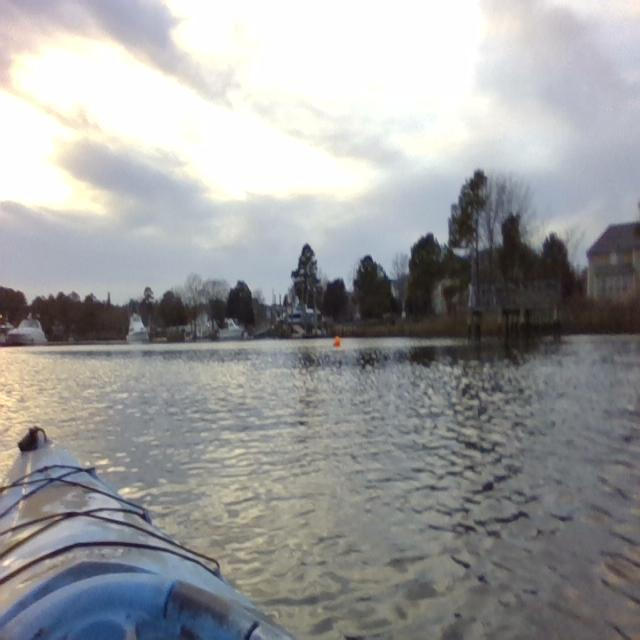Buoy: (333, 332, 342, 356)
